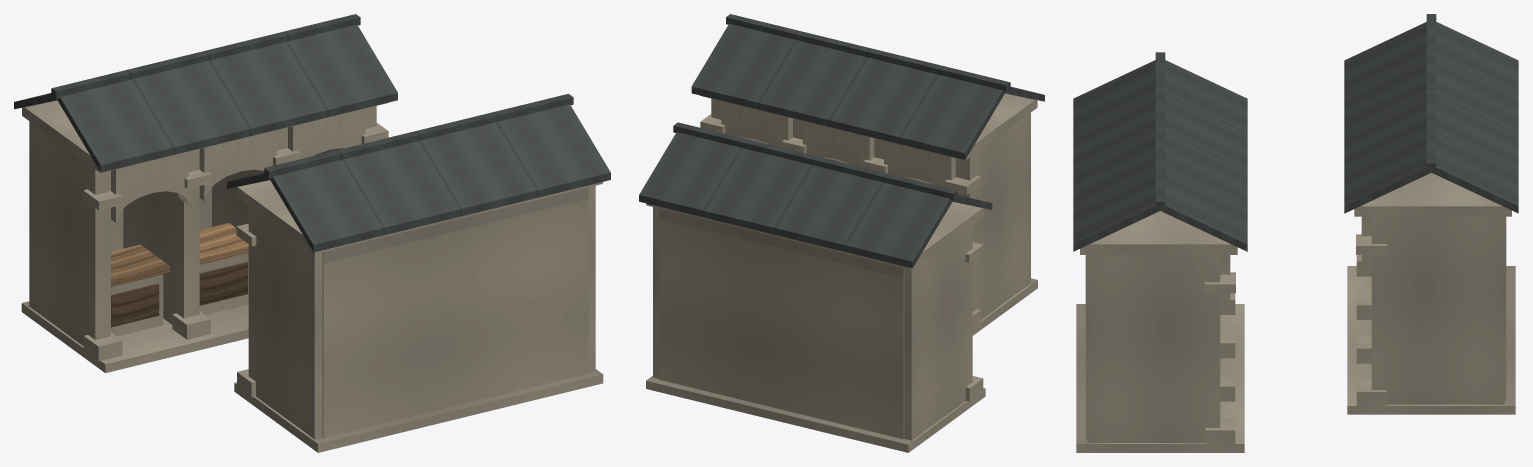
Rendered from mogadishu.glb.
3 views of the same model, side by side, from view 1: azimuth 30°, elevation 25°; view 2: azimuth 150°, elevation 25°; view 3: azimuth 270°, elevation 25° (orthographic). The views are drawn at different scales.
Parts seen in each view (by area): view 1: mogadishu; view 2: mogadishu; view 3: mogadishu.
Boxes of the visible parts, box(x1,y1,x2,y2) form: mogadishu: box(14, 14, 610, 452); mogadishu: box(639, 14, 1044, 452); mogadishu: box(1073, 14, 1518, 452).
Size of the model in its own units: 3.92 by 2.5 by 3.94.
Materials: 1 (1 with a texture image).
